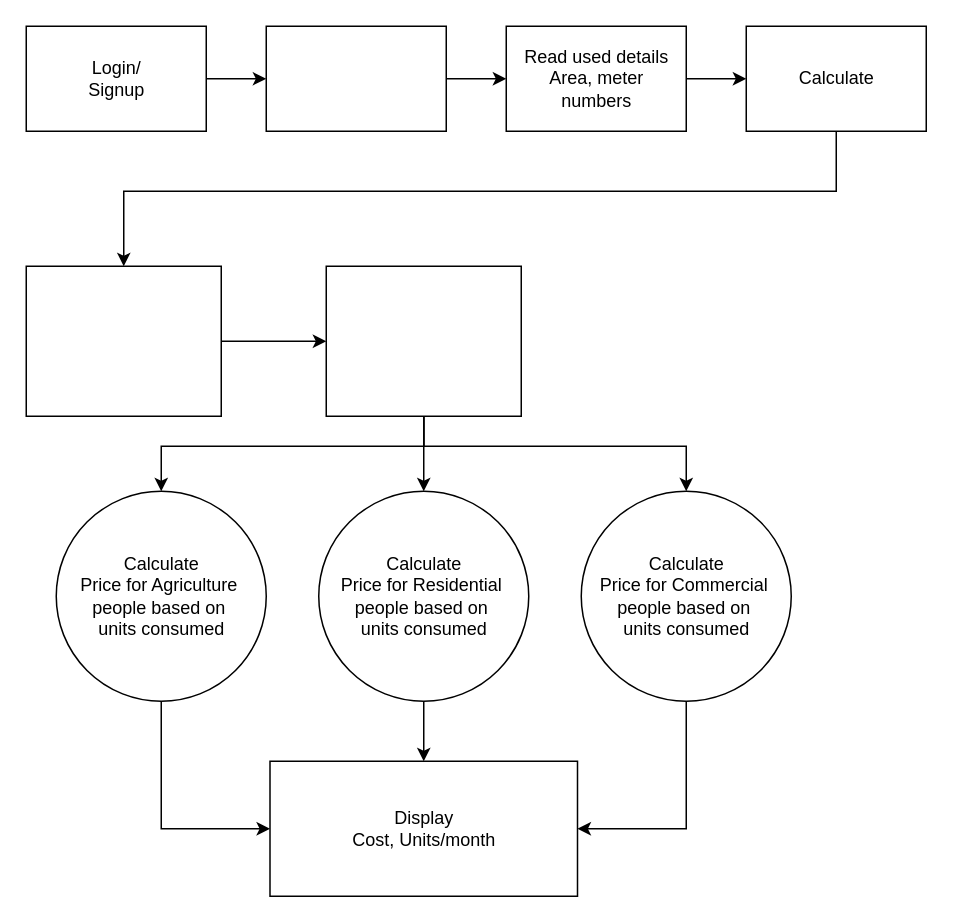
The diagram is 953 pixels wide and 923 high, and some of its shapes have lost their labels. The centre of each missing label's shape, as x and y in pixels:
Choice: Agriculture/ Residential/ Commercial.: pixel 423 340
Energy Consumed, Total load Units consumed: pixel 123 340
Read parameters Appliance used/ Load used: pixel 355 78
